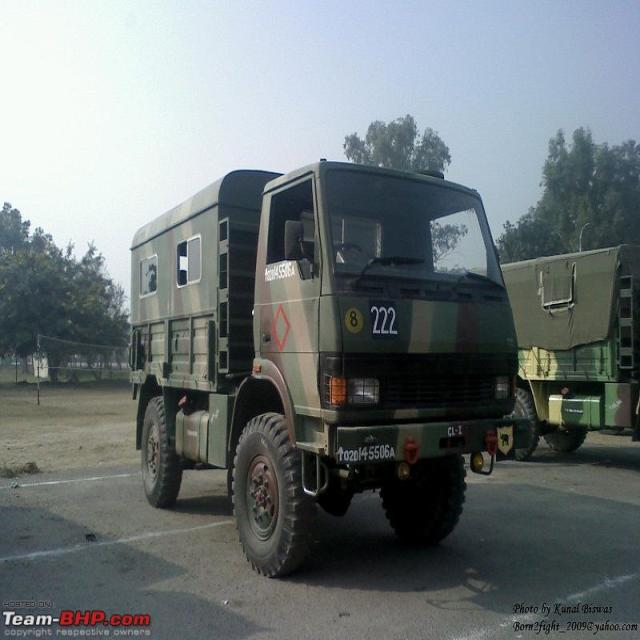military-plate: (337, 444, 399, 463), (263, 260, 297, 284)
unit number: (369, 303, 401, 339)
